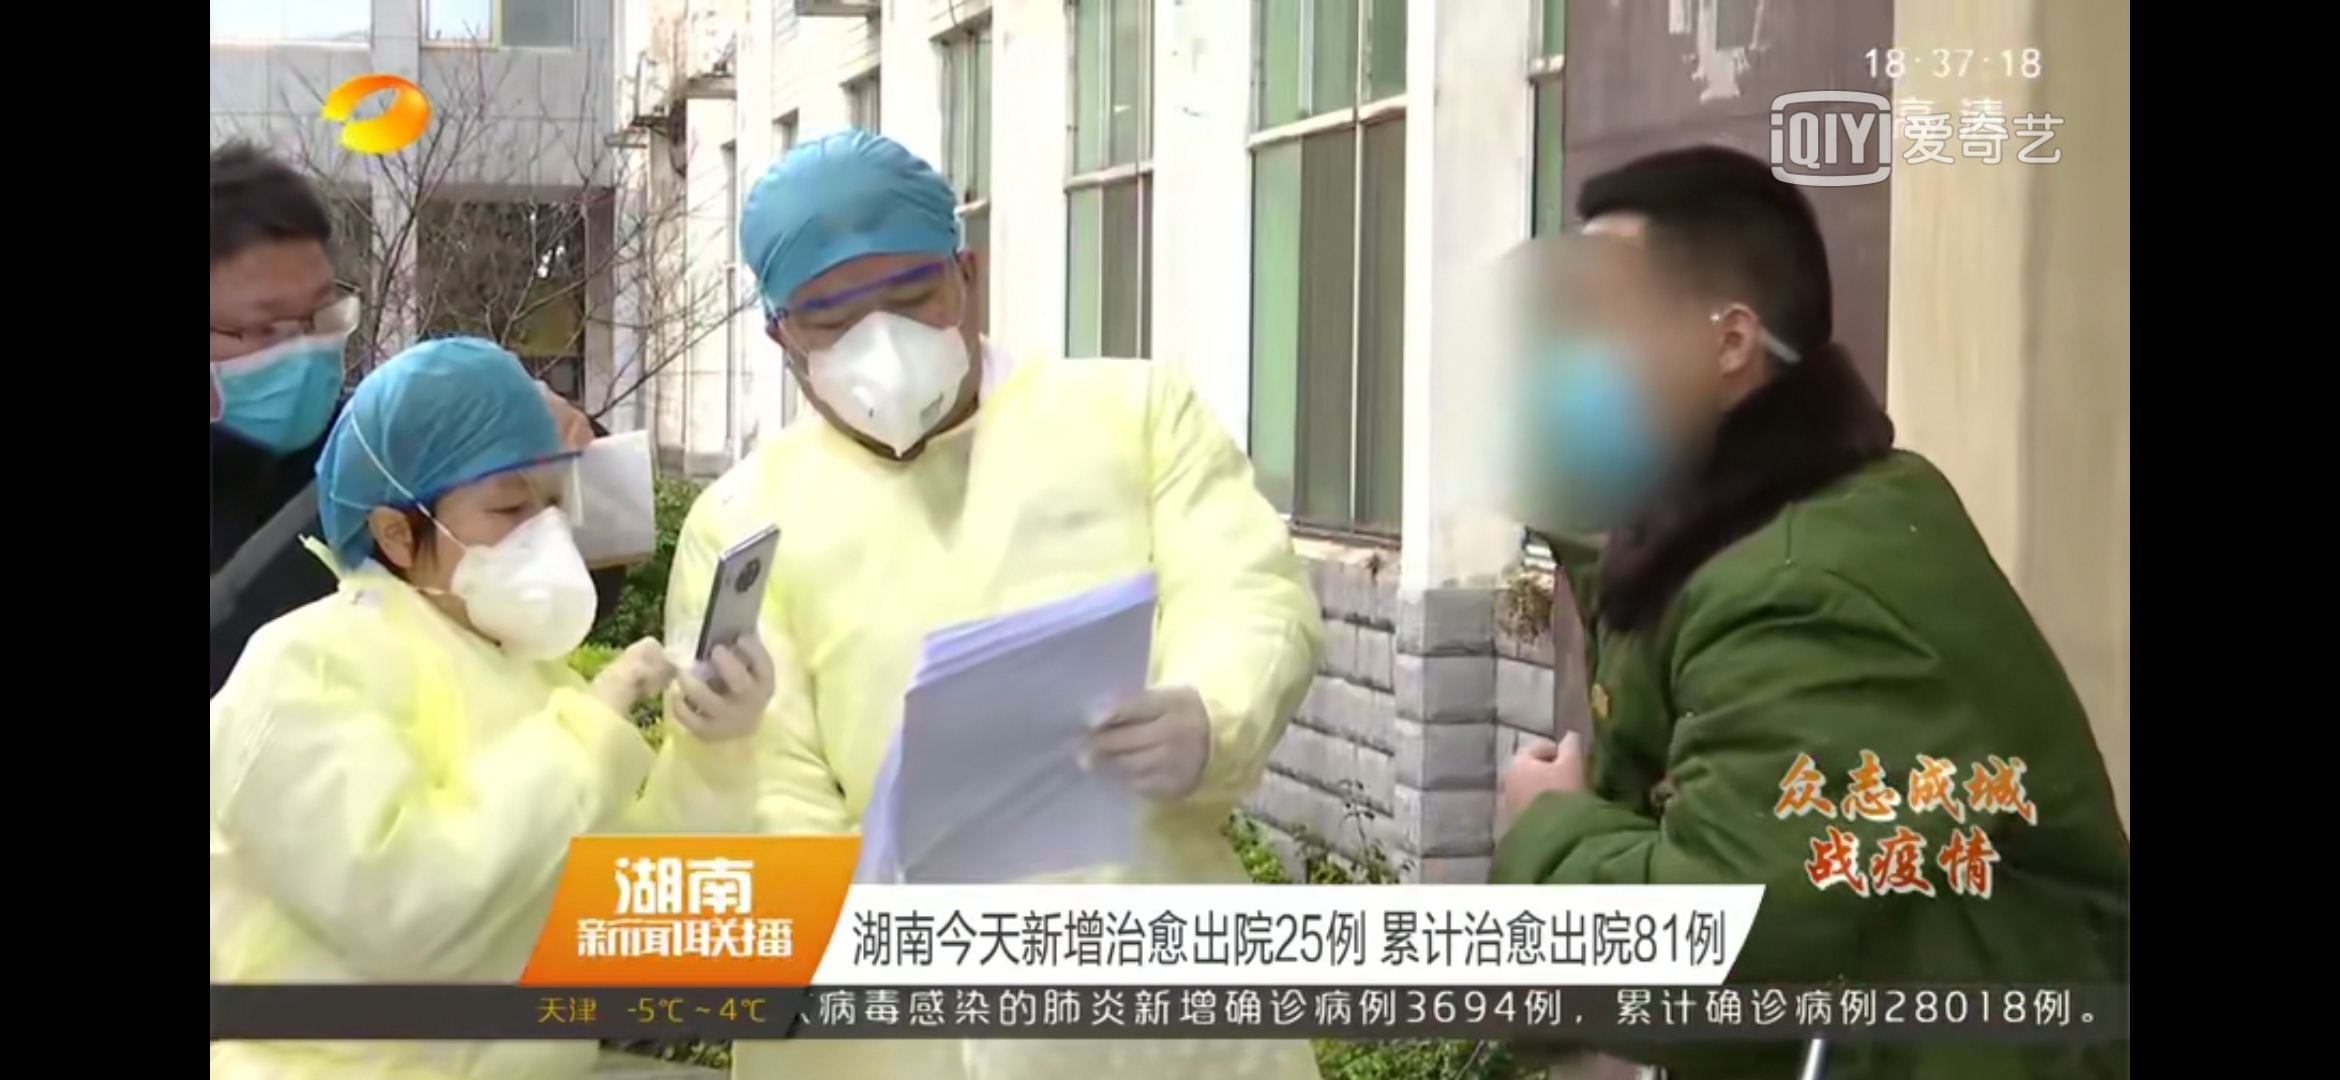correctlyWear: (366, 439, 598, 662), (766, 260, 986, 458), (204, 266, 357, 462)
